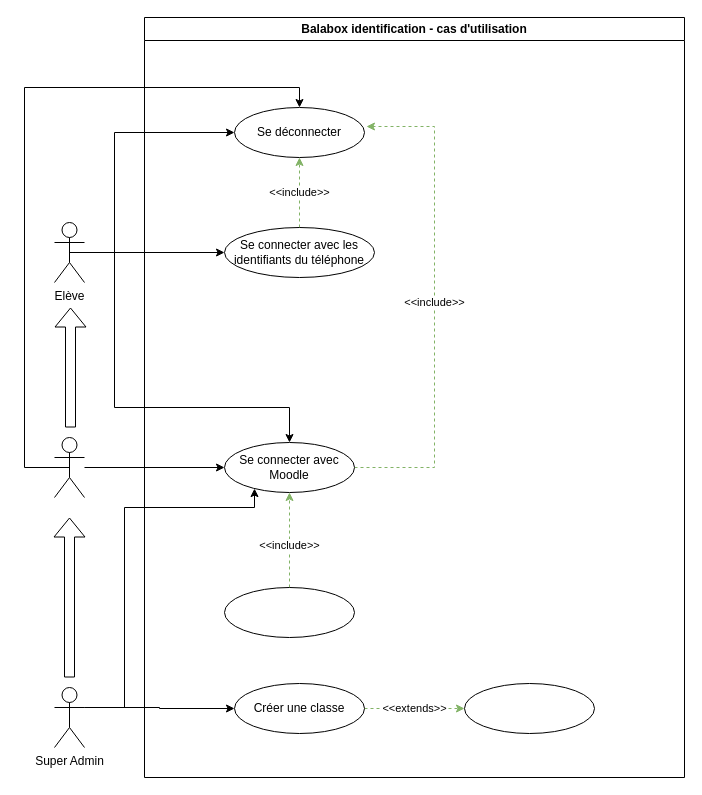
This 702x795 diagram has some shape labels left out. Each missing label, with the centre of its shape:
Importer un fichier CSV: the point at 529,708
Posséder un compte Moodle: the point at 289,612
Professeur: the point at 69,467
